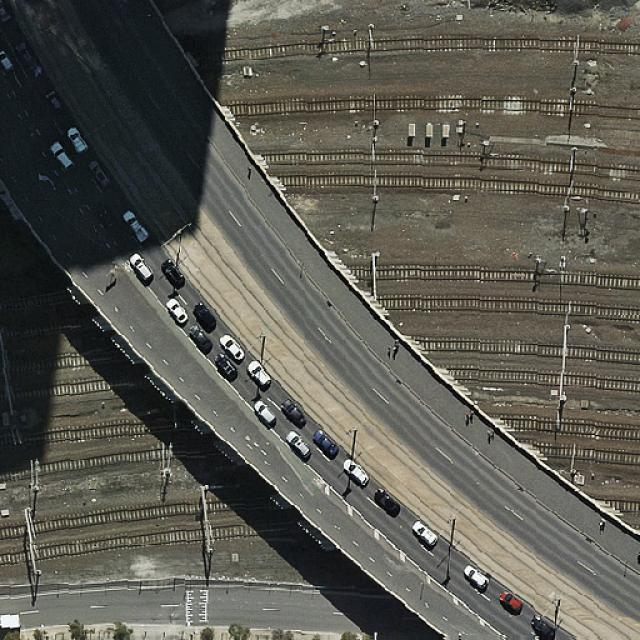Bike-Symbols: (312, 476, 327, 490), (122, 261, 134, 274)
